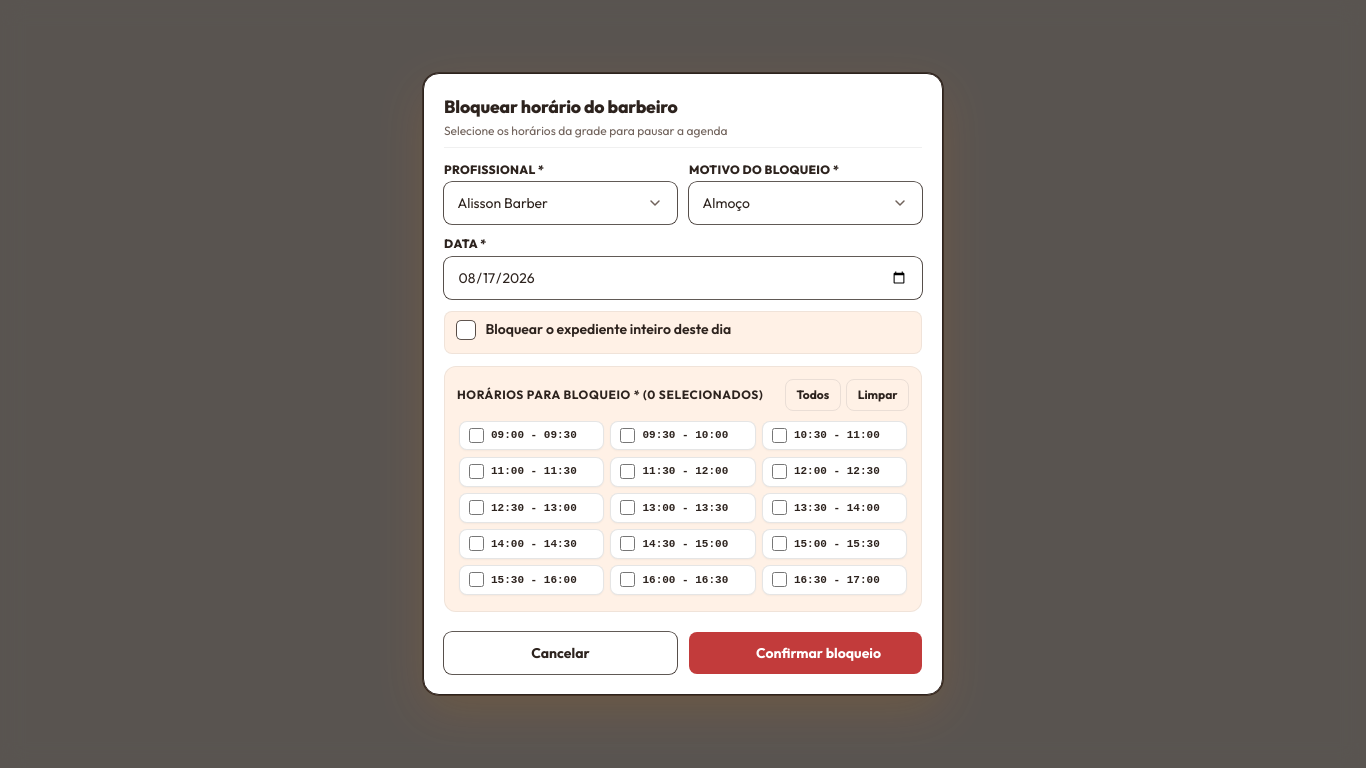
Test: BloqueioModal › impede bloqueio de dia inteiro e exibe erro se houver agendamentos ativos na data
Click the checkbox labelled "Bloquear o expediente inteiro deste dia". click: (594, 329)
box: [457, 320, 731, 339]
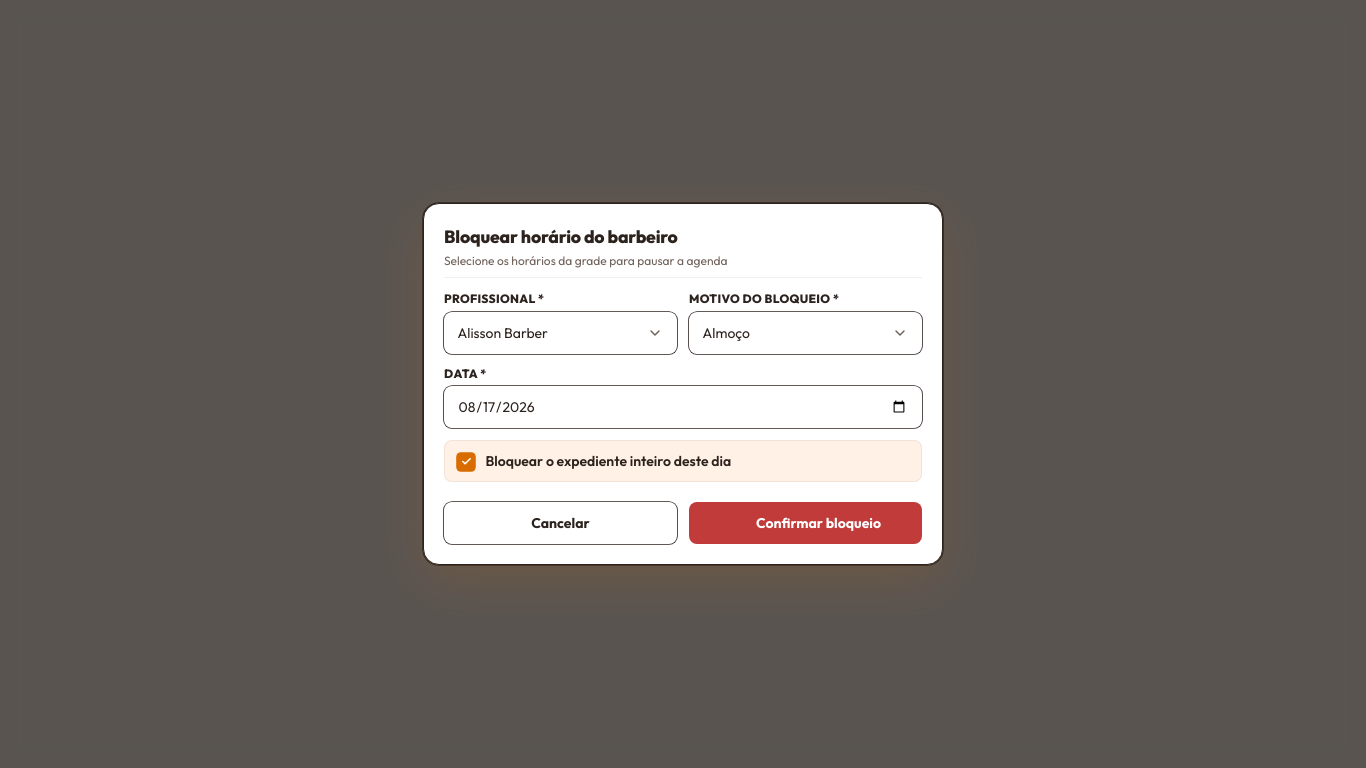
Click the button "Confirmar bloqueio". click: (806, 523)
box: [689, 502, 922, 544]
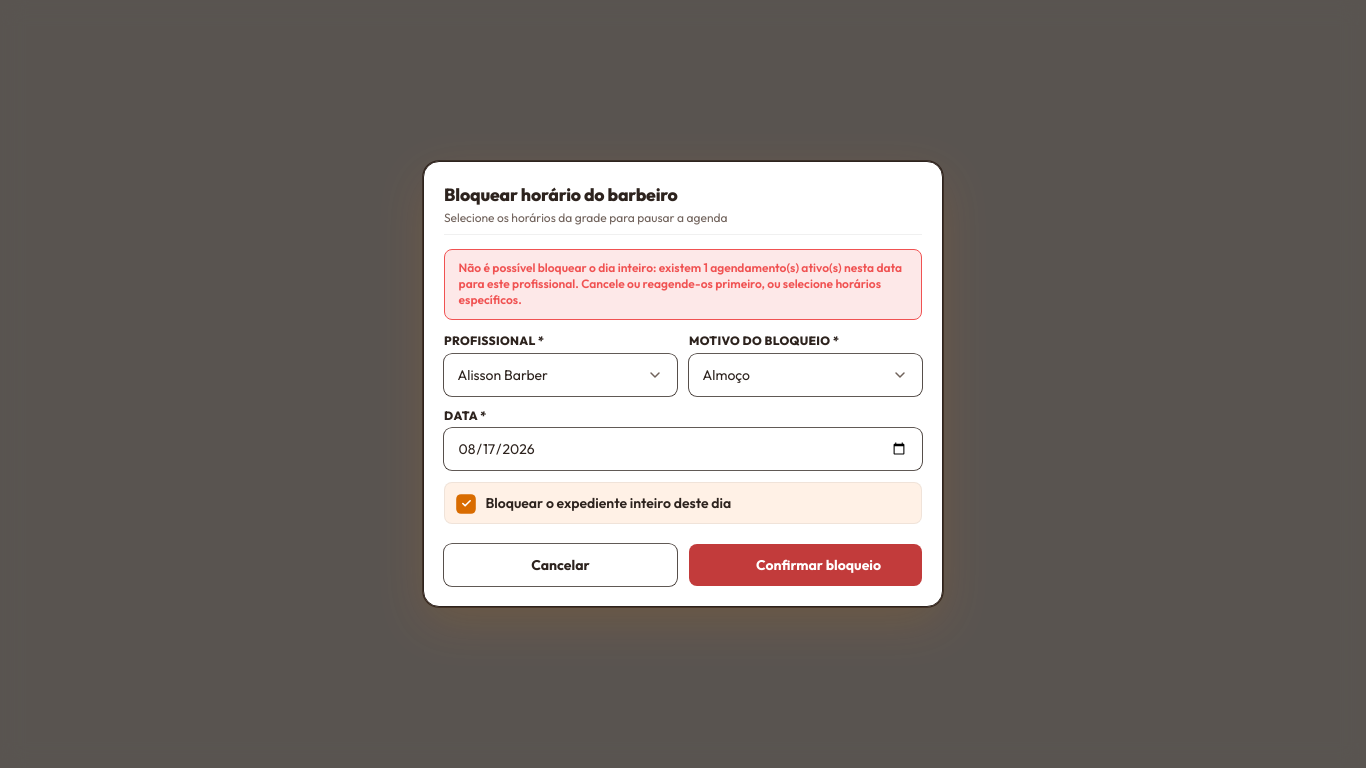
Expected: the text "Não é possível bloquear o dia inteiro: existem 1 agendamento(s) ativo(s)" is shown, [459, 260, 902, 307]
